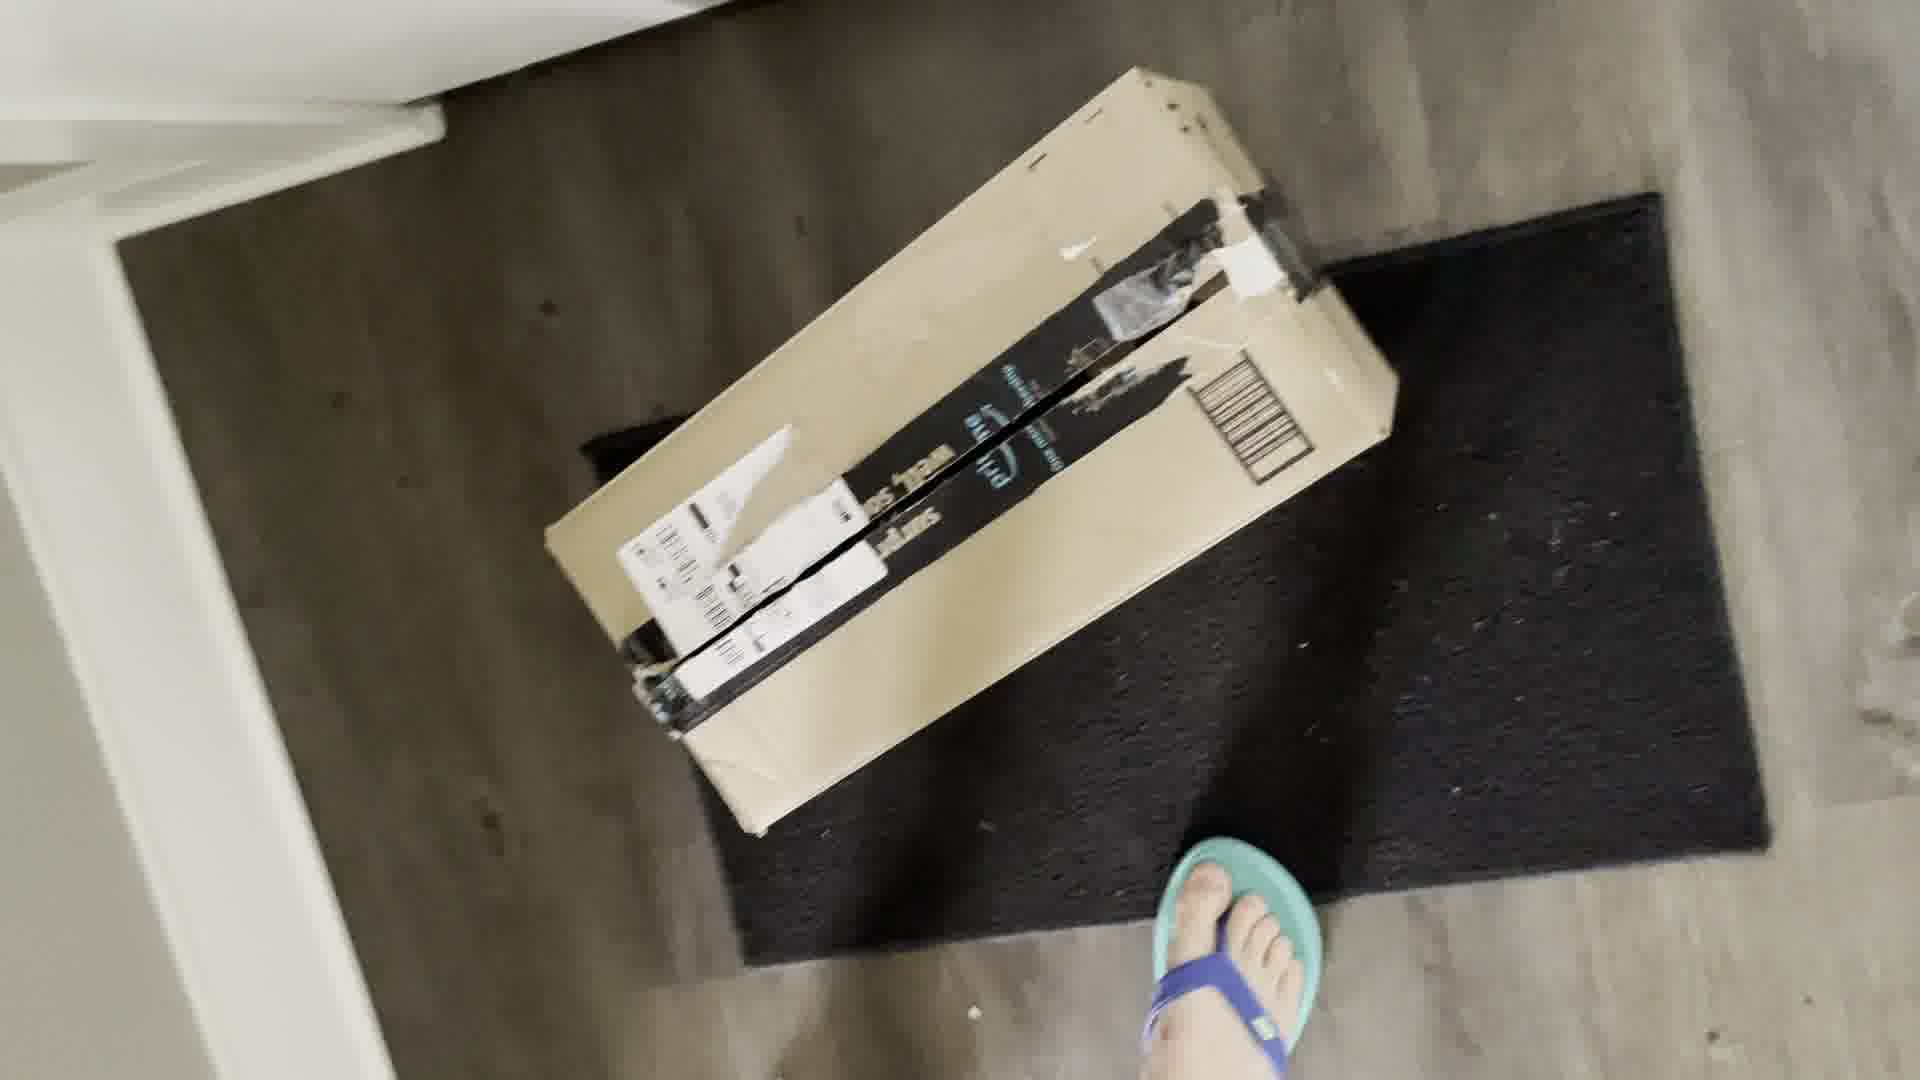box: (506, 54, 1466, 840)
